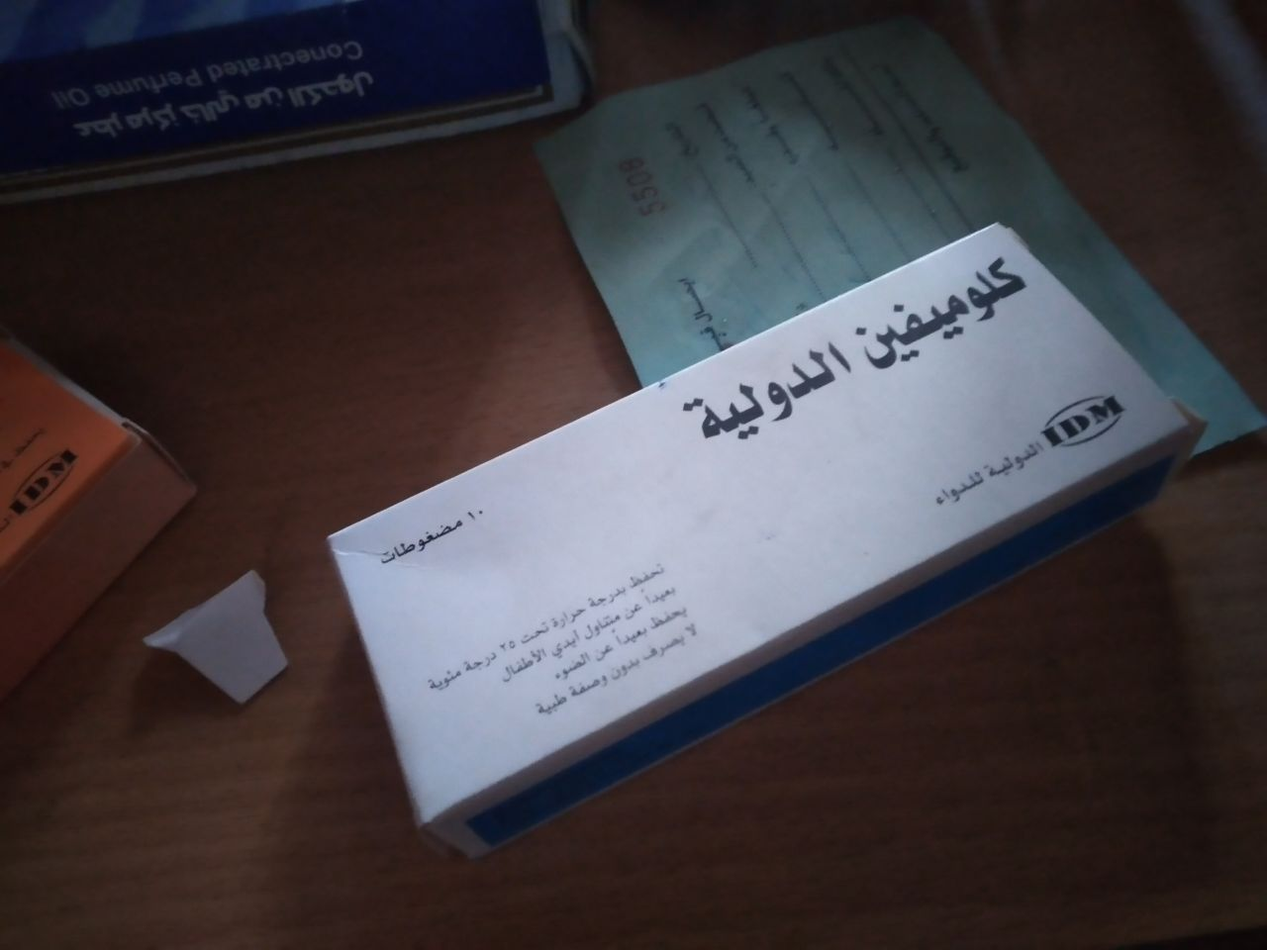Medicine: (322, 198, 1213, 861)
